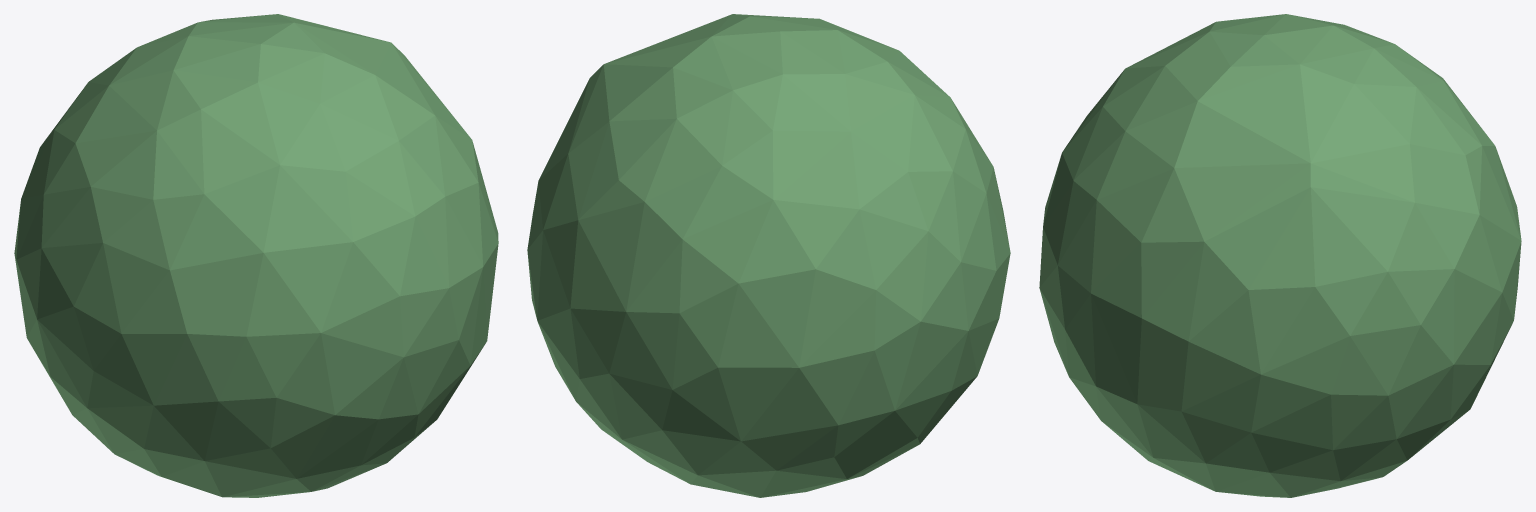
File: naboo_simple.dae
3 views of the same model, side by side, from view 1: azimuth 30°, elevation 25°; view 2: azimuth 150°, elevation 25°; view 3: azimuth 270°, elevation 25° (orthographic).
Visible parts, largest first — view 1: kamino; view 2: kamino; view 3: kamino.
Boxes of the visible parts, x1,y1,x2,y2 form: kamino: [14, 14, 498, 497]; kamino: [527, 14, 1010, 497]; kamino: [1039, 14, 1521, 497].
Bounding box in the file's own units: 6.04 × 5.99 × 6.03.
